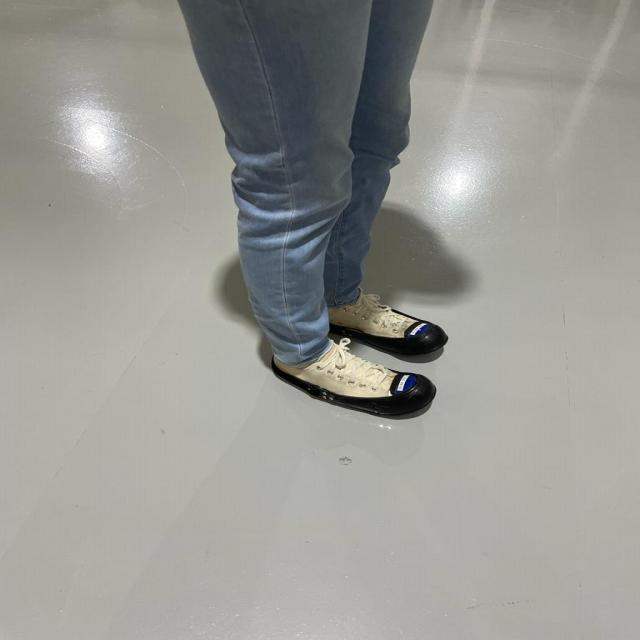shoes: (265, 359, 442, 416), (323, 302, 456, 352)
